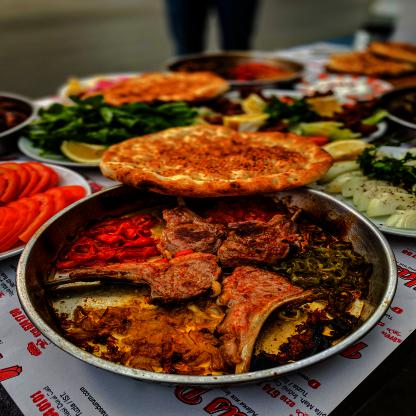Carne: (193, 217, 306, 268), (122, 252, 224, 305), (223, 271, 298, 334)
